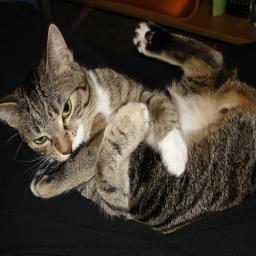catnose: (63, 140, 73, 156)
